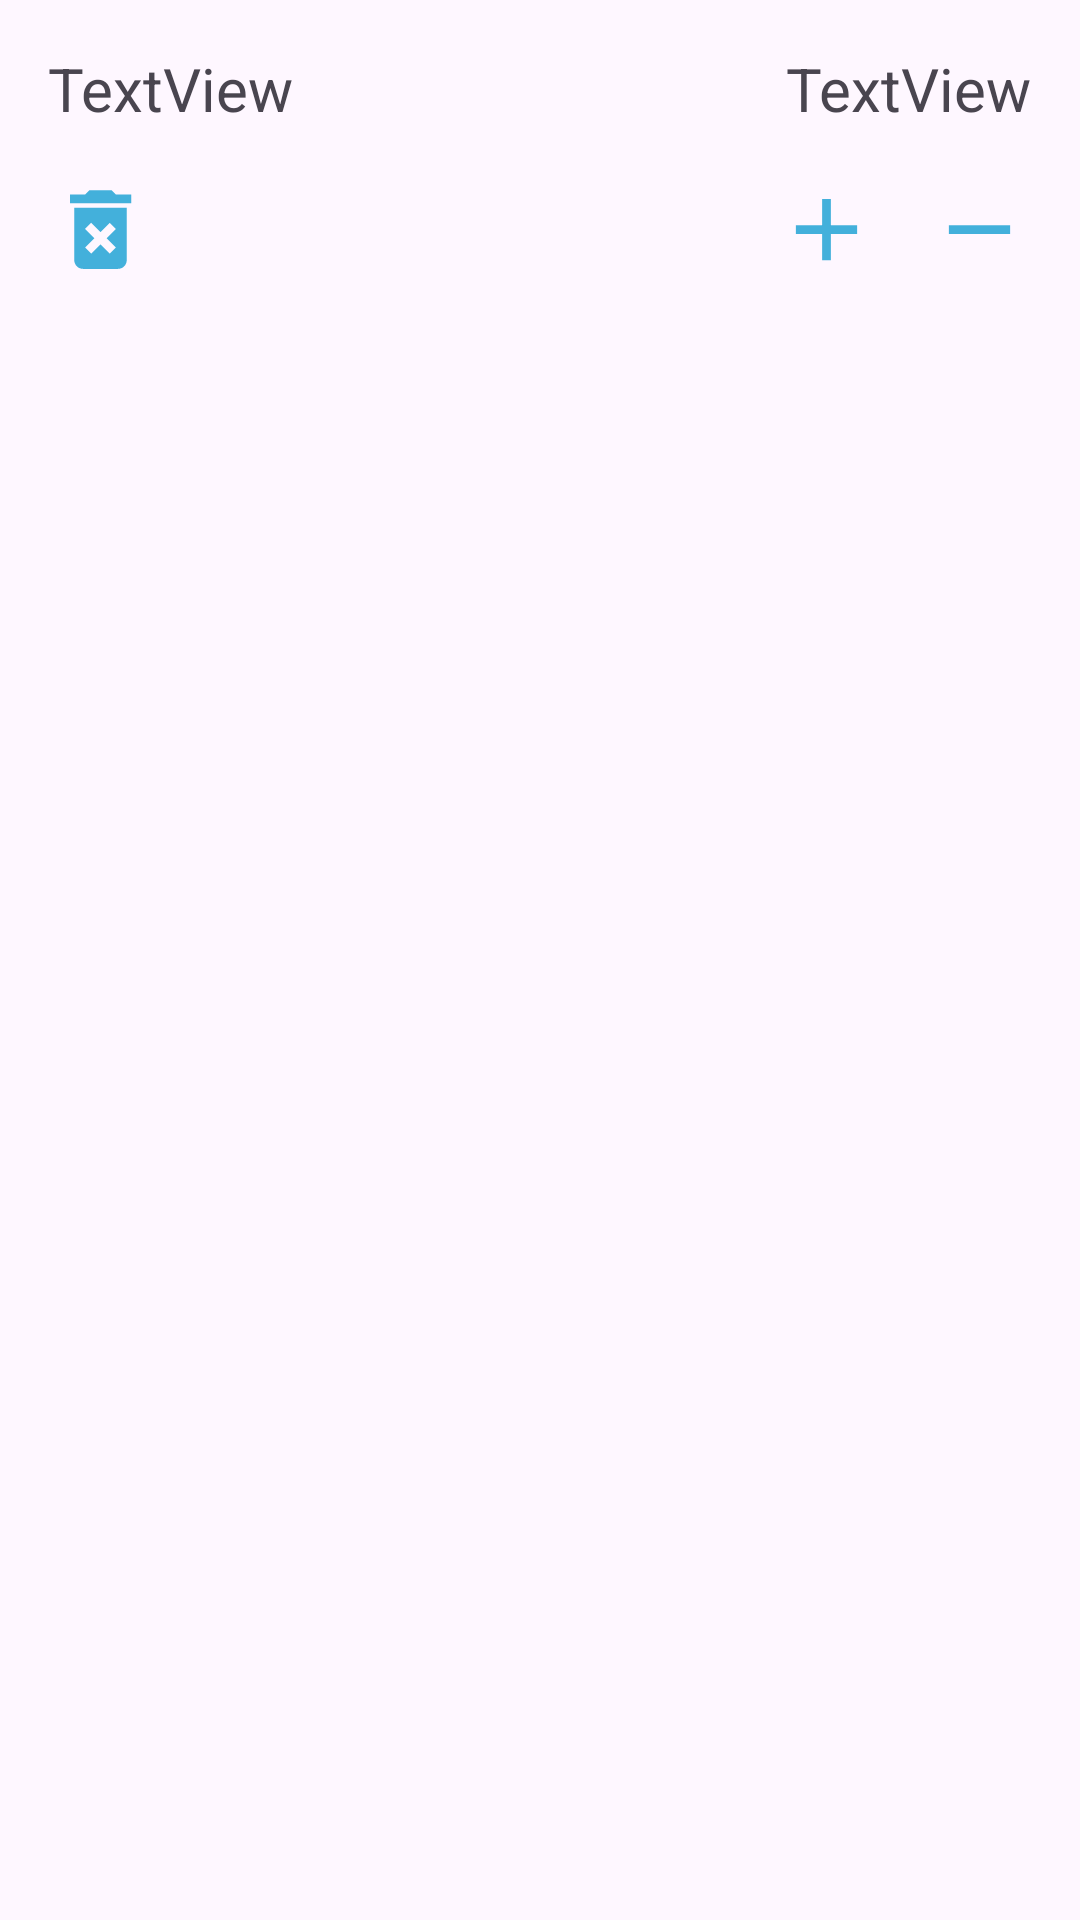

Where to tap for icons on this 1080*1920 app screen, as point (x, y):
delet: point (101, 229)
plus: point (826, 230)
